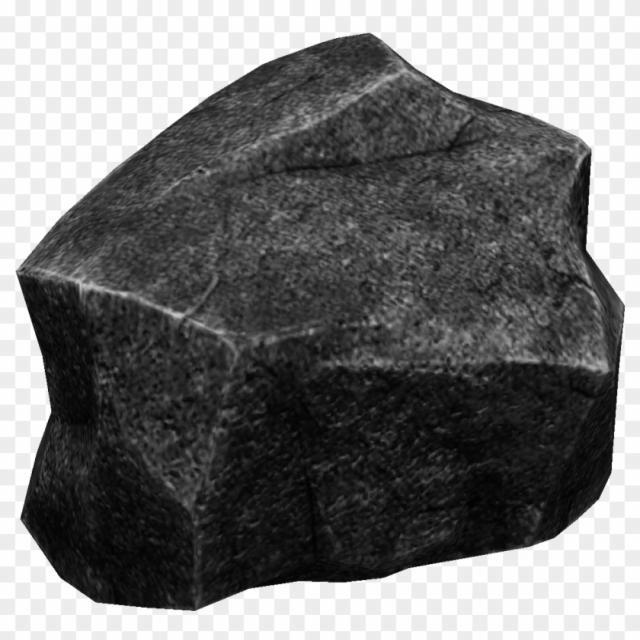Stone: (18, 35, 622, 608)
